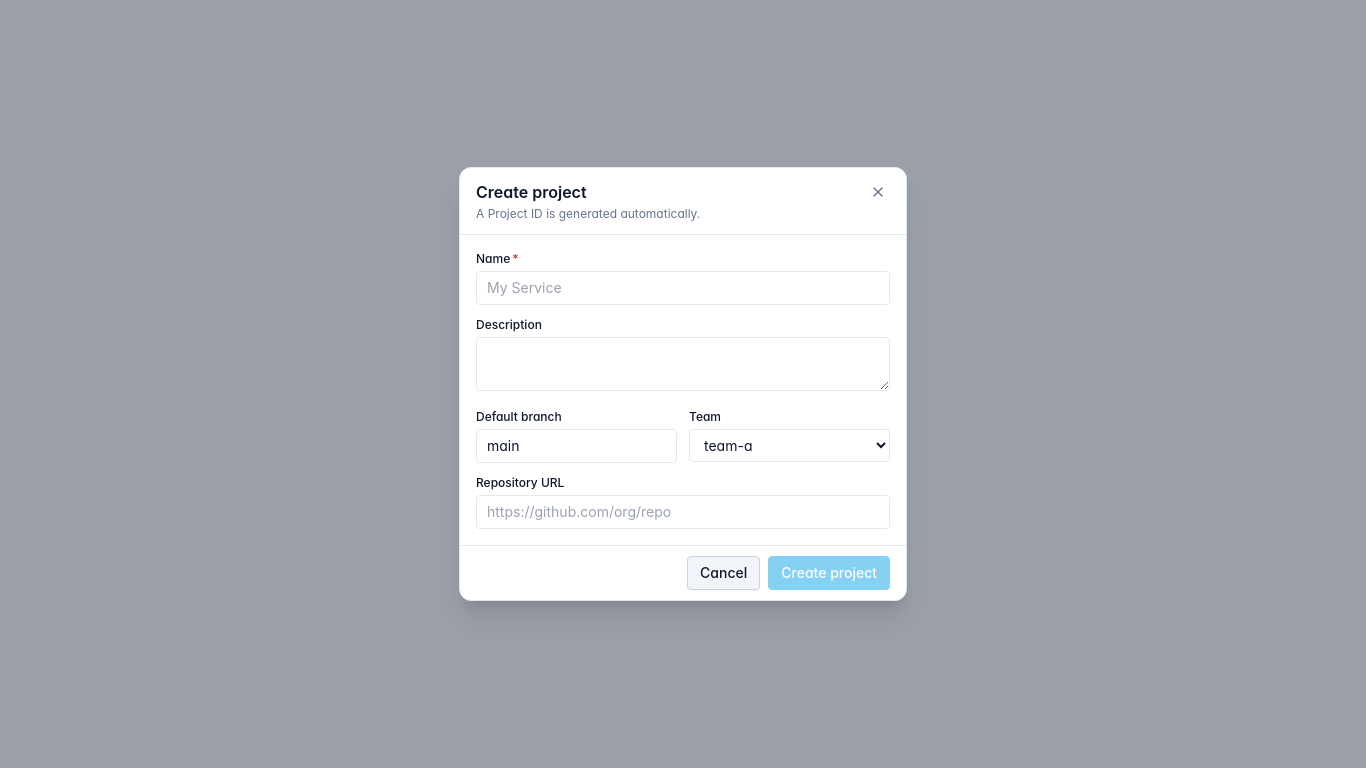
Test: ProjectFormModal — create (v1 parity) › blocks a duplicate name (case-insensitive) and shows a message
In the field with placeholder "My Service": (683, 288) [476,271,890,305], type "  payments "
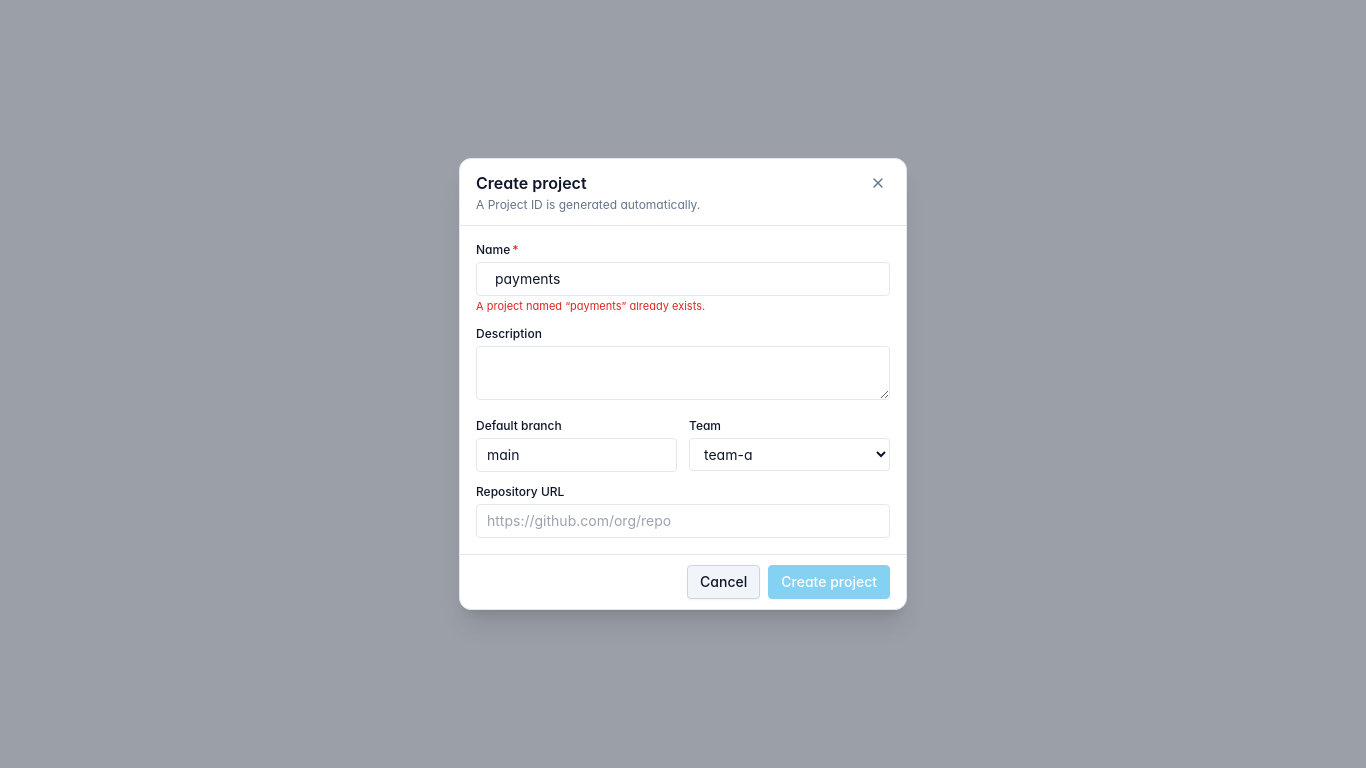
Expected: the button "Create project" is disabled, [768,565,890,599]
Now the text "A project named “payments” already exists." is shown, box [476,299,705,313]
